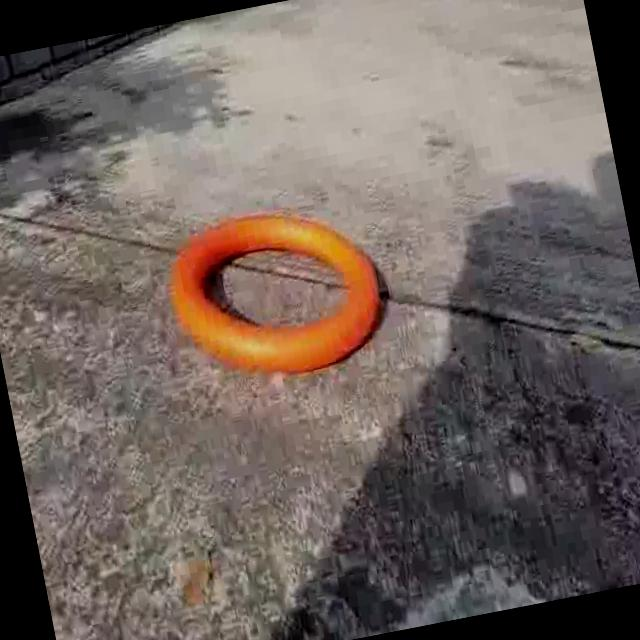note: (159, 194, 398, 384)
